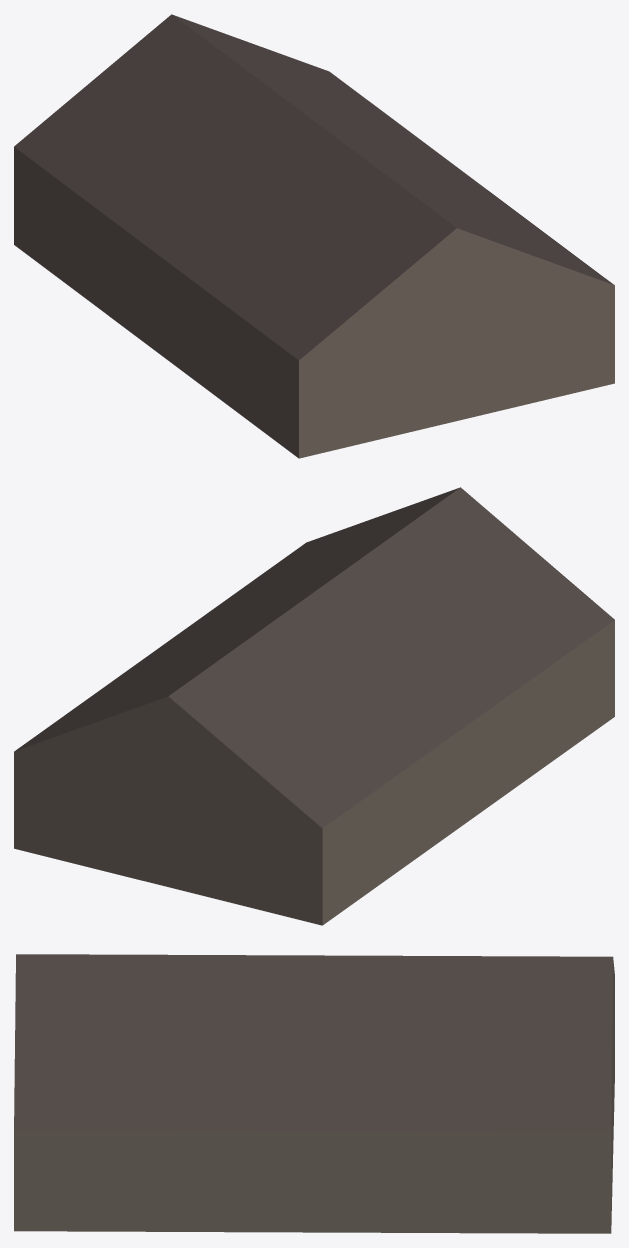
3 views of the same model, one above another, from view 1: azimuth 30°, elevation 25°; view 2: azimuth 150°, elevation 25°; view 3: azimuth 270°, elevation 25° (orthographic). The views are drawn at different scales.
Visible parts, largest first — view 1: HP-w389702018; view 2: HP-w389702018; view 3: HP-w389702018.
Boxes of the visible parts, x1,y1,x2,y2 form: HP-w389702018: (14, 14, 614, 458); HP-w389702018: (14, 487, 614, 925); HP-w389702018: (14, 954, 614, 1233).
Bounding box in the file's own units: 10.21 × 5.9 × 16.21.
